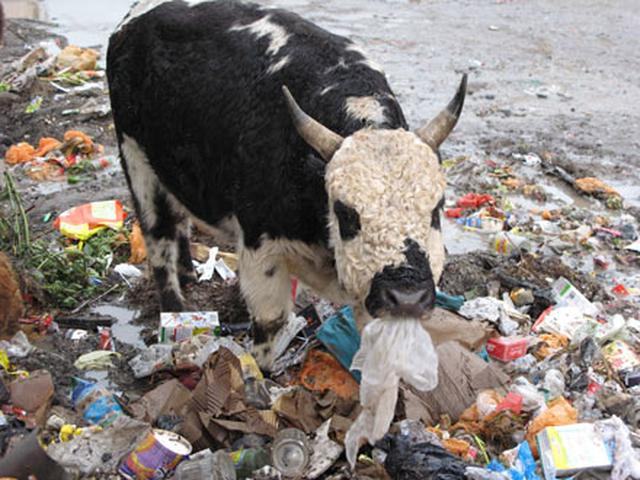garbage: (21, 338, 346, 468), (468, 256, 632, 471)
